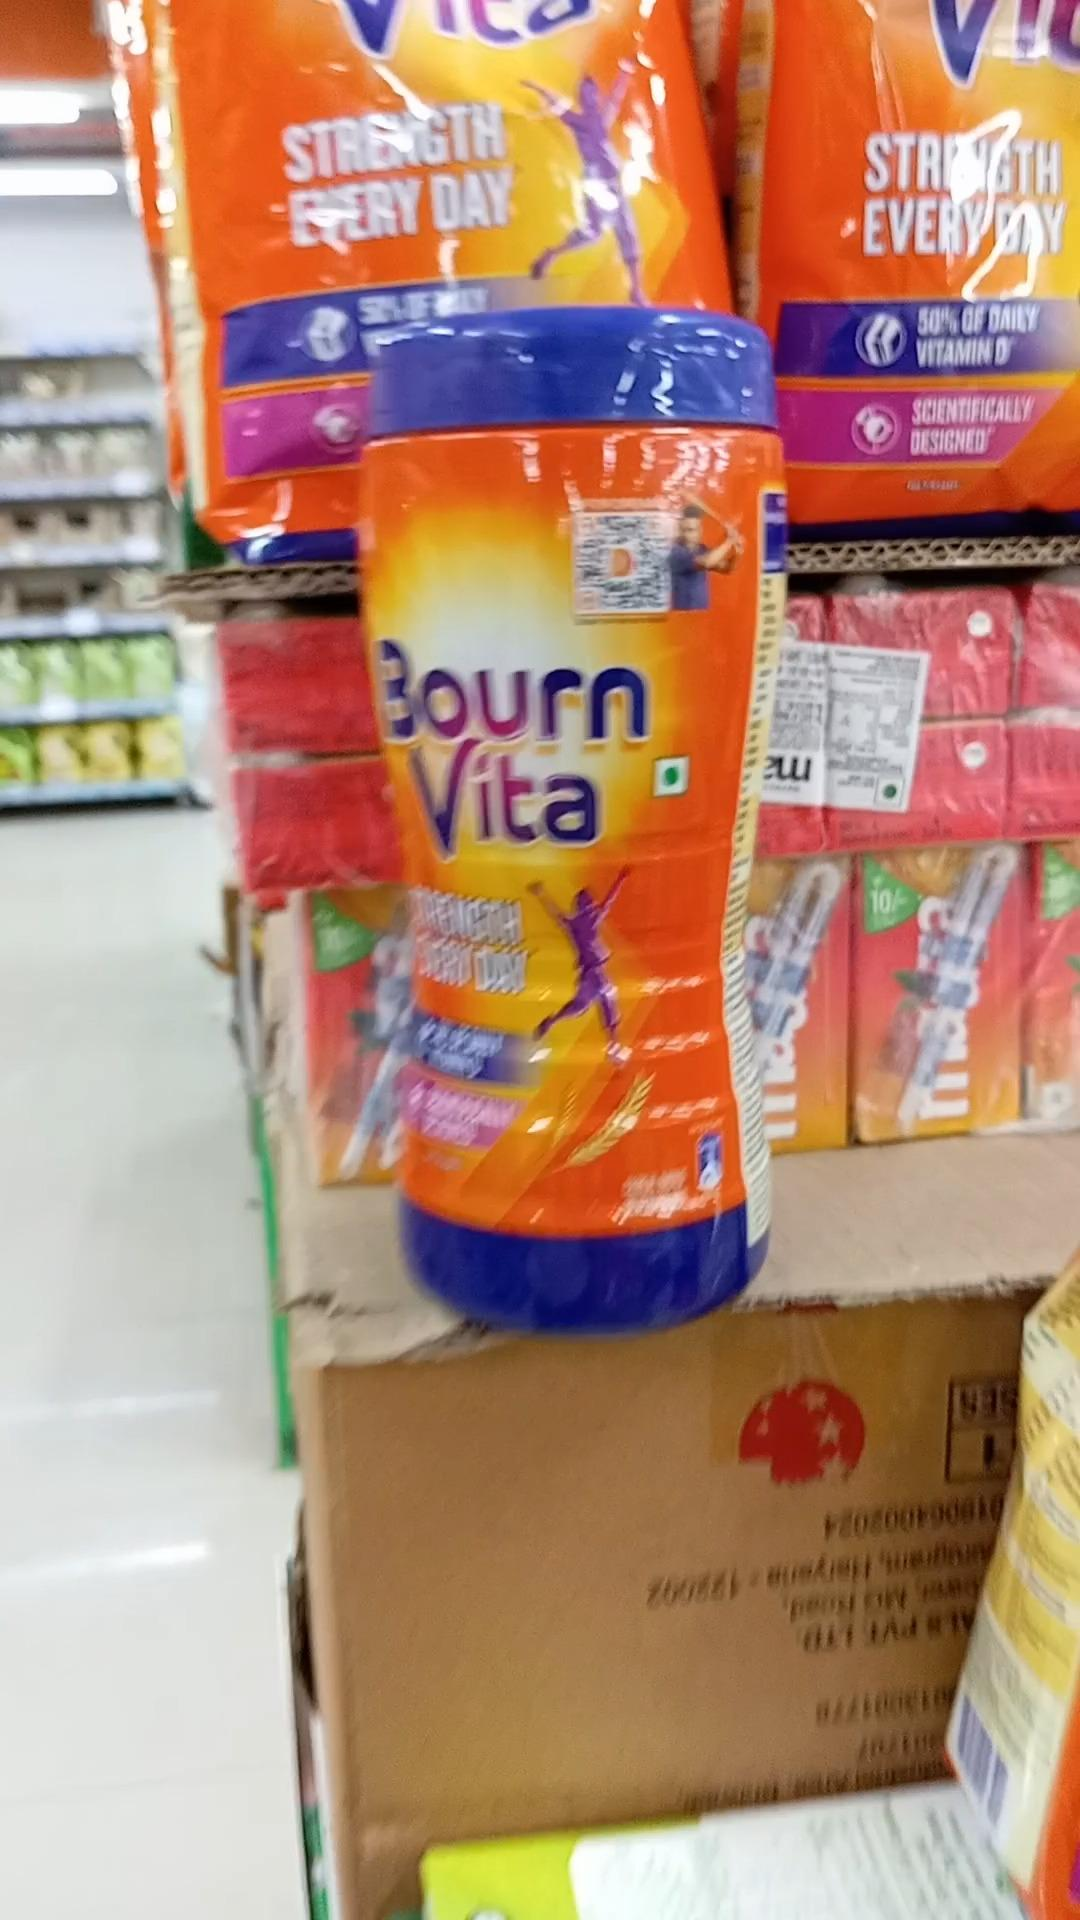BOURN_VITA_500_G_JAR: (373, 309, 781, 1325)
